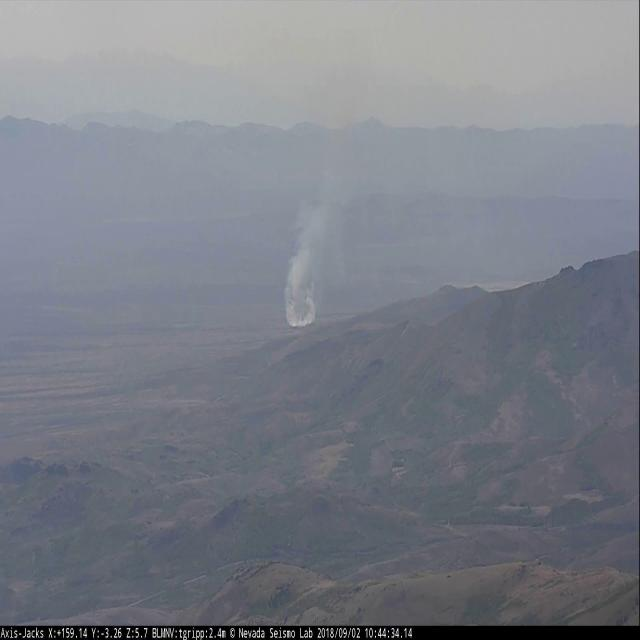smoke: (283, 162, 362, 326)
